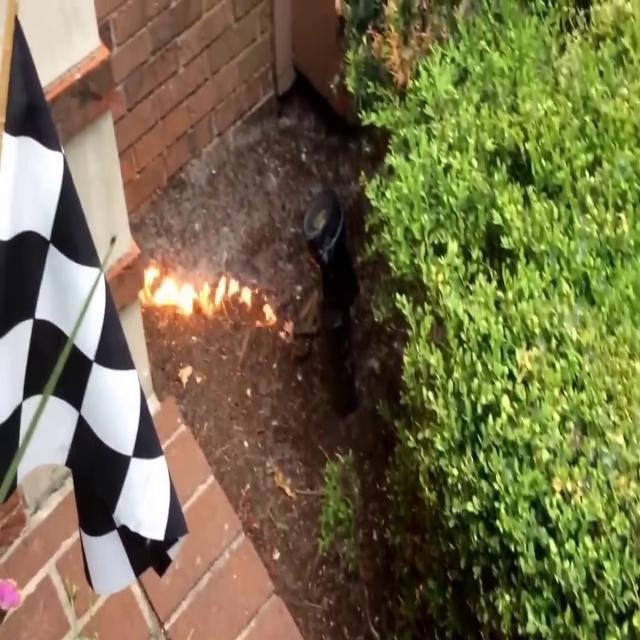Fire: (142, 256, 276, 322)
